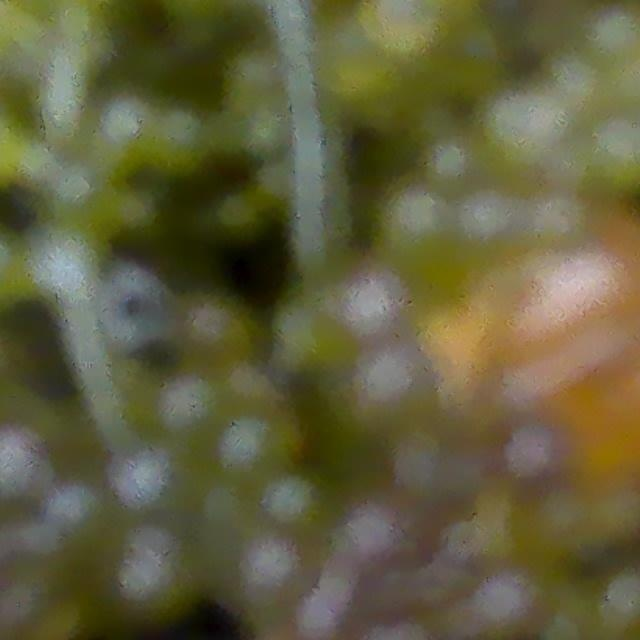SeaGrape: (129, 528, 208, 617), (333, 273, 417, 351), (464, 567, 551, 640), (0, 420, 72, 508), (347, 504, 434, 570), (481, 97, 565, 164), (498, 420, 566, 496), (373, 190, 453, 254), (456, 184, 524, 251), (430, 133, 491, 198), (580, 2, 640, 67), (262, 471, 324, 532), (595, 116, 640, 194), (540, 57, 603, 112), (296, 595, 360, 640)
